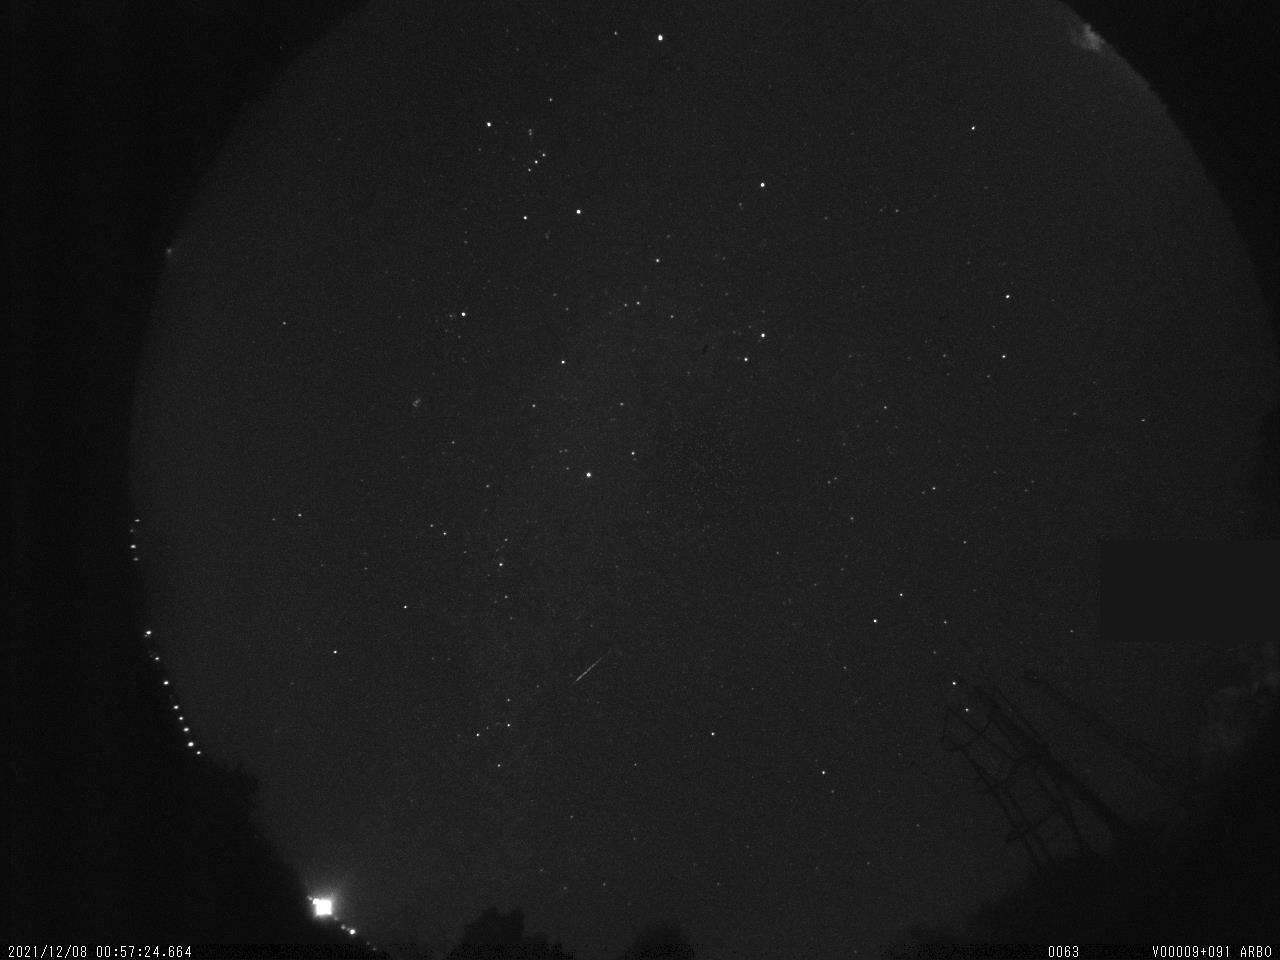meteor: (564, 650, 605, 689)
